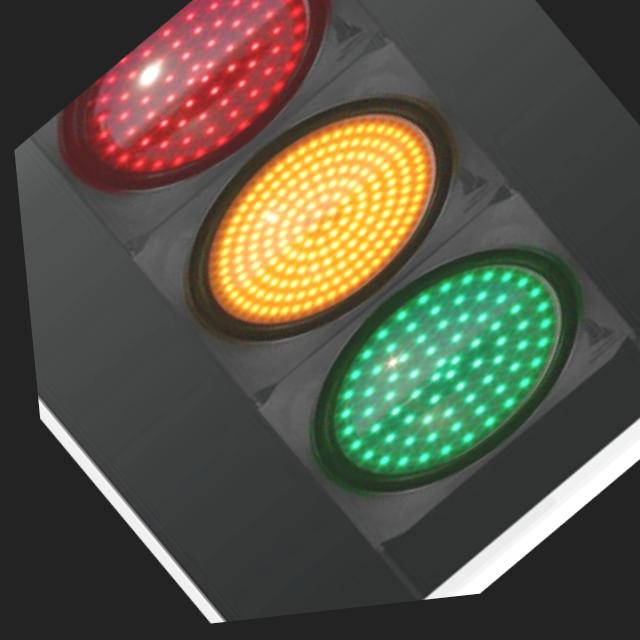Hijau: (267, 218, 609, 535)
Kuning: (154, 72, 482, 377)
Merah: (54, 0, 356, 216)
